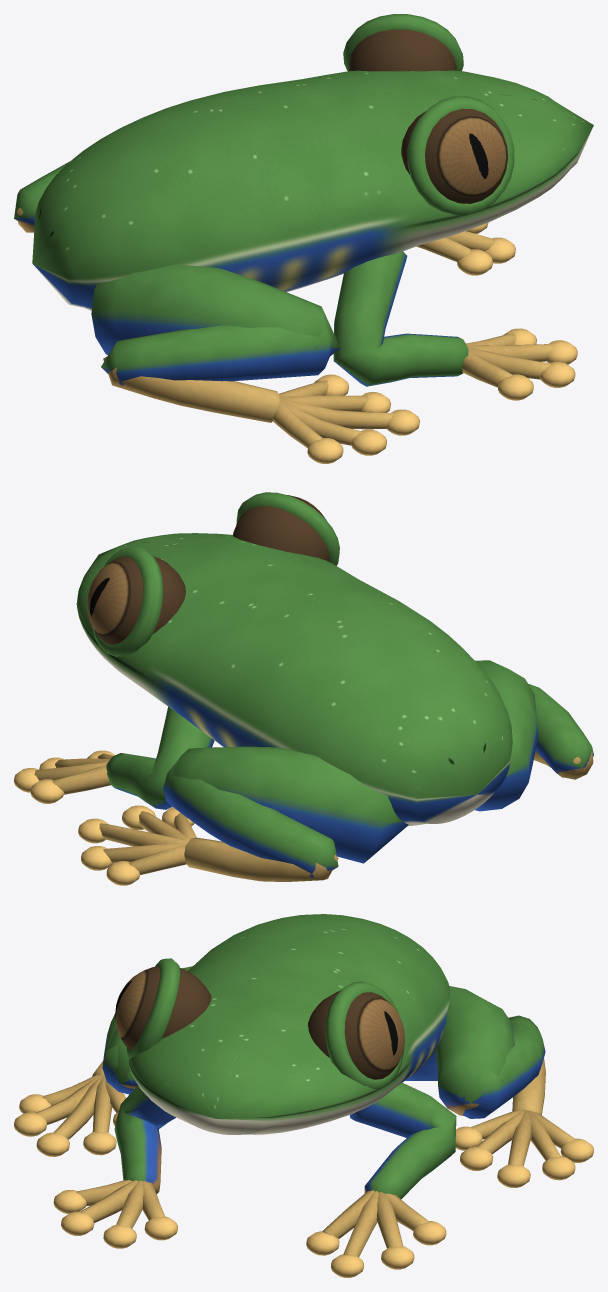
File: stream-frog.glb
The picture shows the model from 3 angles, top to bottom: view 1: azimuth 30°, elevation 25°; view 2: azimuth 150°, elevation 25°; view 3: azimuth 270°, elevation 25°; orthographic projection. The views are drawn at different scales.
Parts seen in each view (by area): view 1: Frog body, Limbs, Hands, feet and toes, Eyes, glossy, Toe pads, Eyelid rims; view 2: Frog body, Limbs, Hands, feet and toes, Eyes, glossy, Eyelid rims, Toe pads; view 3: Frog body, Limbs, Hands, feet and toes, Toe pads, Eyes, glossy, Eyelid rims.
Part boxes in pixels (x1,y1,x2,y2): Frog body: (32, 70, 593, 310); Limbs: (14, 161, 468, 386); Hands, feet and toes: (17, 208, 553, 447); Eyes, glossy: (348, 29, 508, 203); Toe pads: (307, 223, 577, 463); Eyelid rims: (343, 14, 514, 214); Frog body: (76, 533, 512, 825); Limbs: (106, 660, 593, 878); Hands, feet and toes: (34, 751, 593, 881); Eyes, glossy: (87, 495, 329, 644); Eyelid rims: (92, 492, 339, 656); Toe pads: (14, 750, 194, 885); Frog body: (128, 914, 449, 1134); Limbs: (102, 966, 545, 1199); Hands, feet and toes: (36, 1058, 574, 1257); Toe pads: (14, 1094, 593, 1277); Eyes, glossy: (115, 966, 404, 1079); Eyelid rims: (126, 958, 404, 1088).
Bounding box in the file's own units: 0.0676 × 0.0342 × 0.0728.
6 materials, 6 textured.
